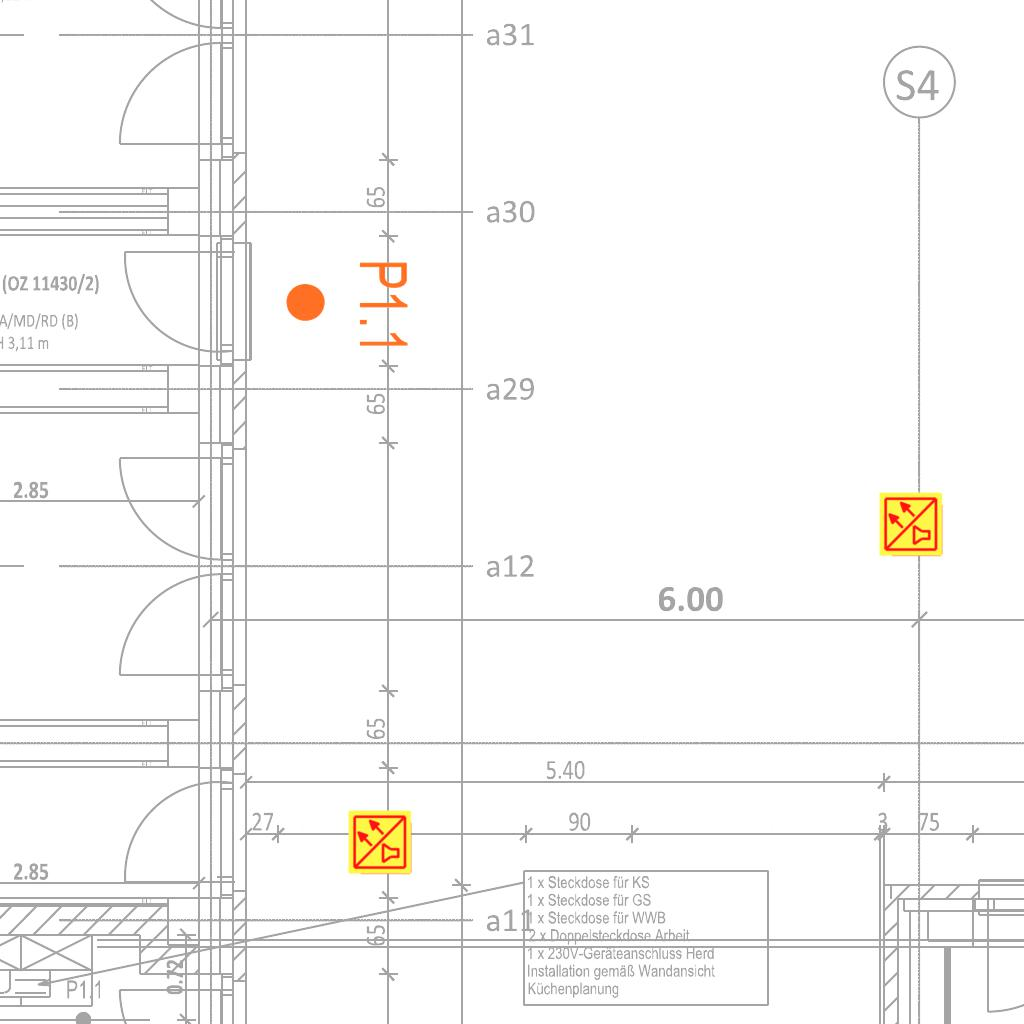Downlight_LED_Einbauleuchten_Flur: (283, 259, 411, 352)
OKW_Multisensormelder_(Kombination_optischer_Rauch-Kahlenmonoxid_Waerme-Melder): (347, 809, 413, 875), (878, 491, 944, 557)
